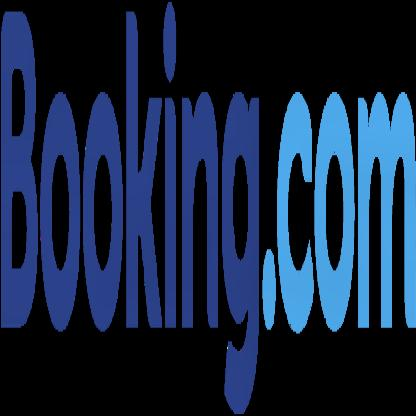Booking.com: (0, 0, 416, 414)
